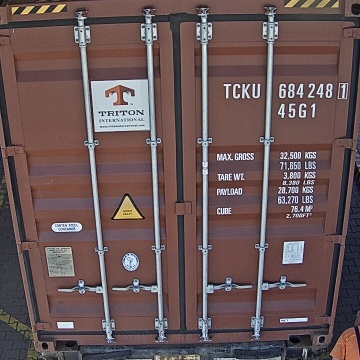serial_id: (223, 83, 348, 98)
